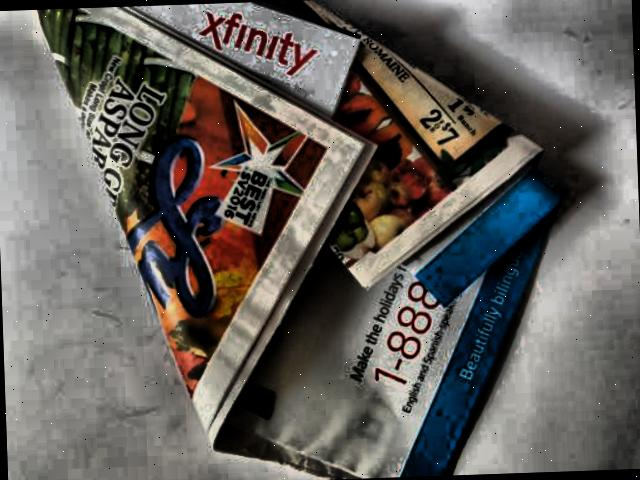Paper: (20, 0, 579, 480)
